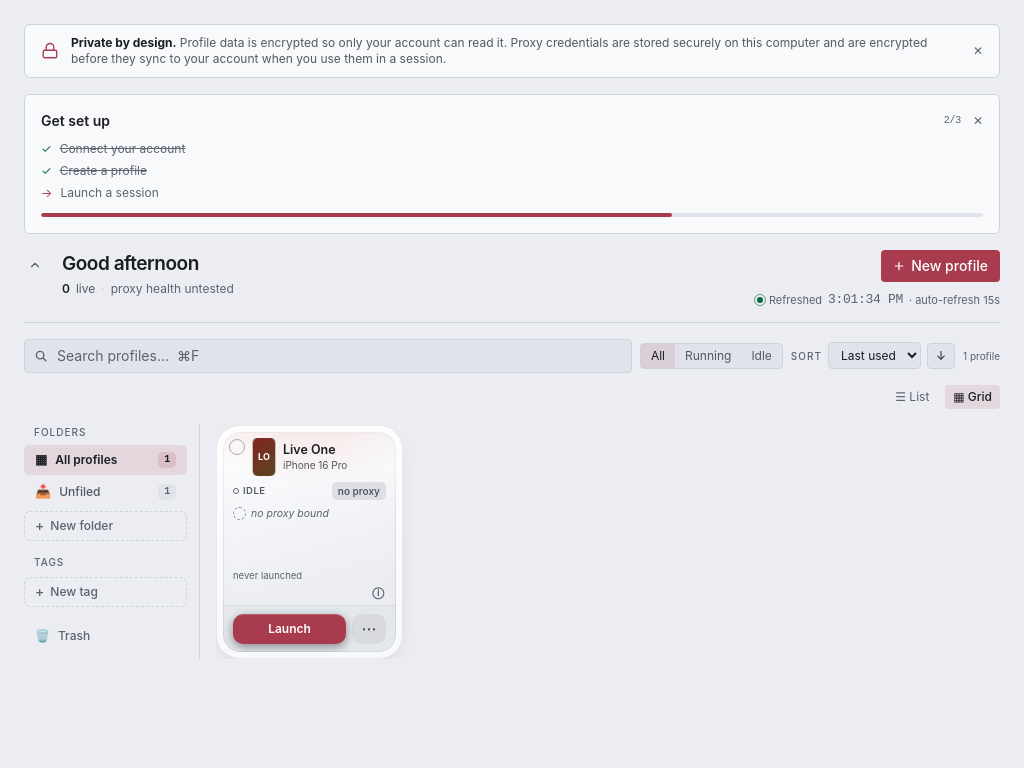
Test: TrashPanel load truth › renders empty only after an authoritative empty response
The image size is (1024, 768).
Expected: the text "Live One" is shown, 283,442 -> 336,456
Click the button "🗑️ Trash" at [106, 636], box 24,620 -> 187,650
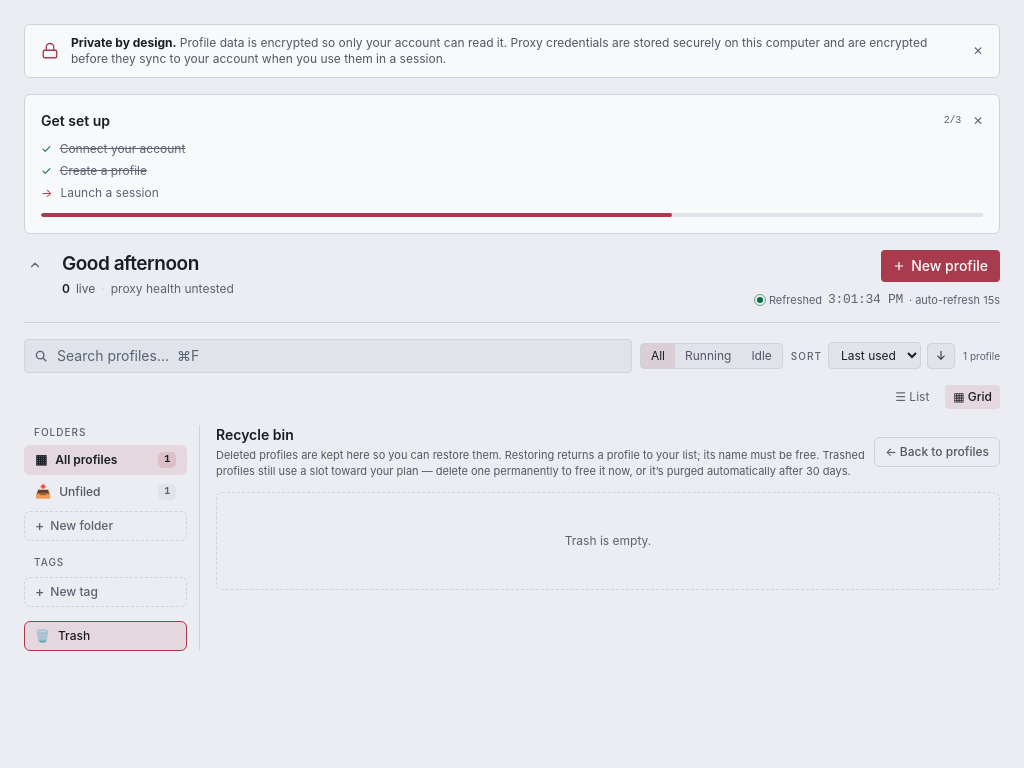
Now the text "Trash is empty." is shown, box 216,492 -> 1000,590
